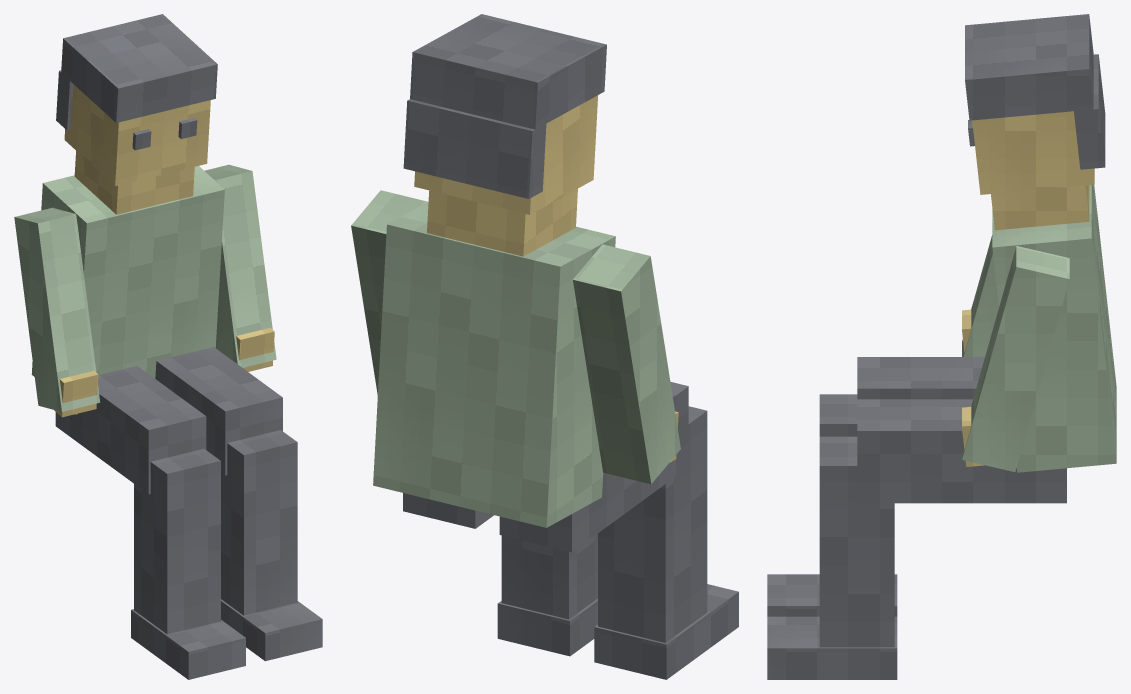
The model's file is pixel-modern-apartments-resident-sitting-5069e642__29877.glb.
The picture shows the model from 3 angles, left to right: view 1: azimuth 30°, elevation 25°; view 2: azimuth 150°, elevation 25°; view 3: azimuth 270°, elevation 25°; orthographic projection. The views are drawn at different scales.
Parts seen in each view (by area): view 1: resident-sitting; view 2: resident-sitting; view 3: resident-sitting.
Boxes of the visible parts, x1,y1,x2,y2 form: resident-sitting: [14, 14, 322, 679]; resident-sitting: [351, 14, 738, 679]; resident-sitting: [767, 14, 1116, 679].
Bounding box in the file's own units: 0.56 × 1.33 × 0.6995.
3 materials, 3 textured.
